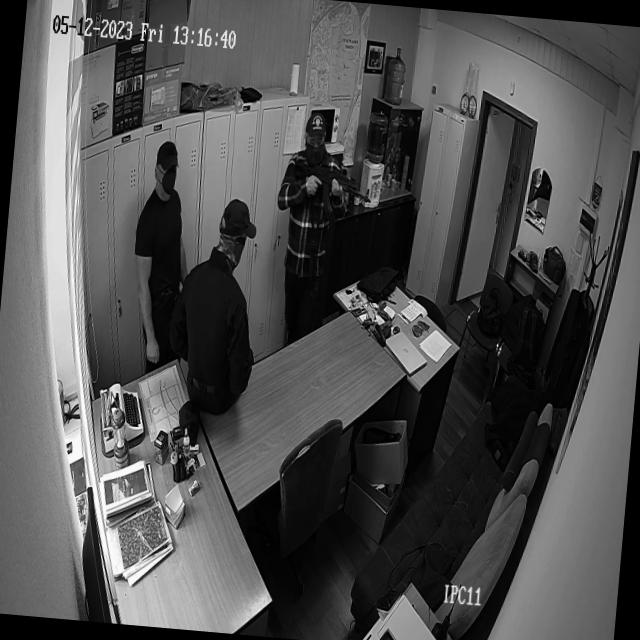gun: (290, 156, 374, 224), (515, 246, 528, 266)
person: (168, 197, 266, 415), (127, 137, 204, 363)
person with a gun: (268, 115, 378, 328)
